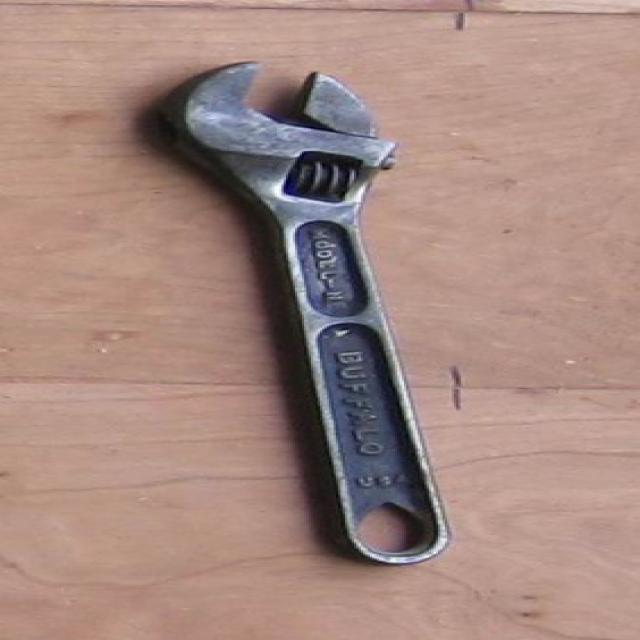wrench: (157, 46, 561, 584)
